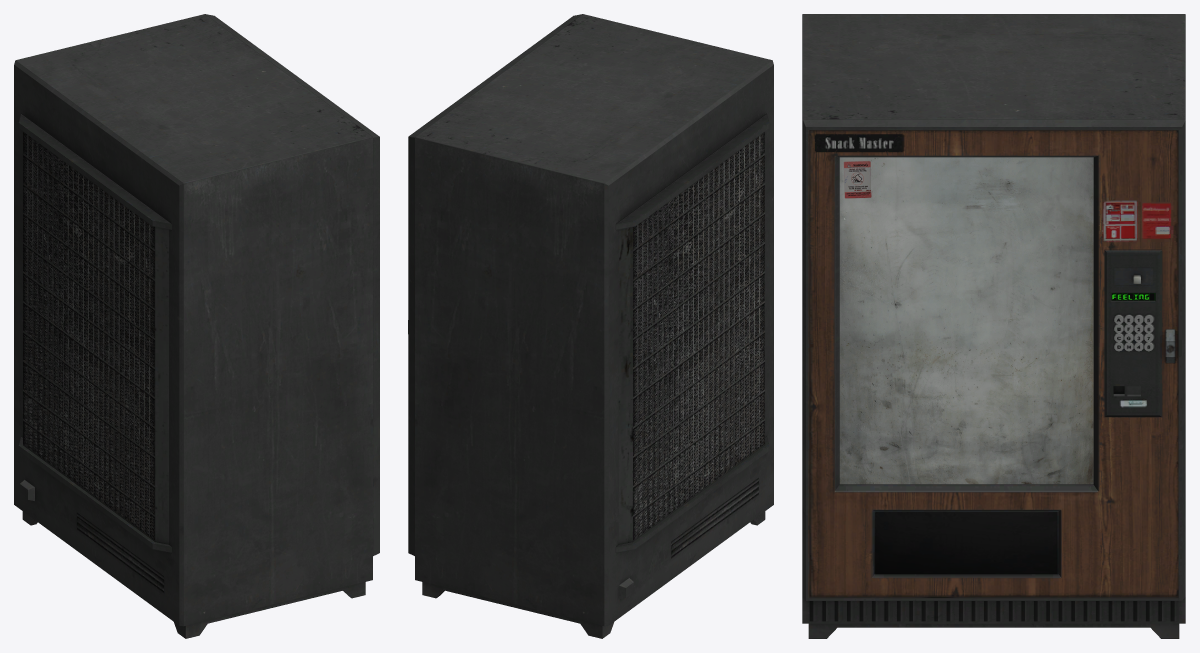
File: vending_machine.fbx
3 views of the same model, side by side, from view 1: azimuth 30°, elevation 25°; view 2: azimuth 150°, elevation 25°; view 3: azimuth 270°, elevation 25° (orthographic). The views are drawn at different scales.
Parts seen in each view (by area): view 1: Object_5; view 2: Object_5; view 3: Object_5, Object_7.
Part boxes in pixels (box(x1,y1,x2,y2)): Object_5: box(14, 14, 379, 638); Object_5: box(408, 14, 773, 638); Object_5: box(802, 14, 1185, 638); Object_7: box(839, 157, 1093, 484).
Size of the model in its own units: 73.92 by 151 by 100.
Materials: 4 (3 with a texture image).
